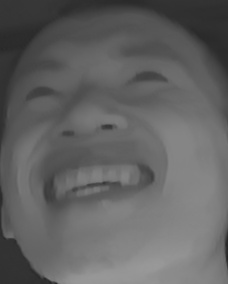eye: (117, 63, 177, 91), (20, 80, 70, 106)
mouth: (37, 152, 152, 208)
